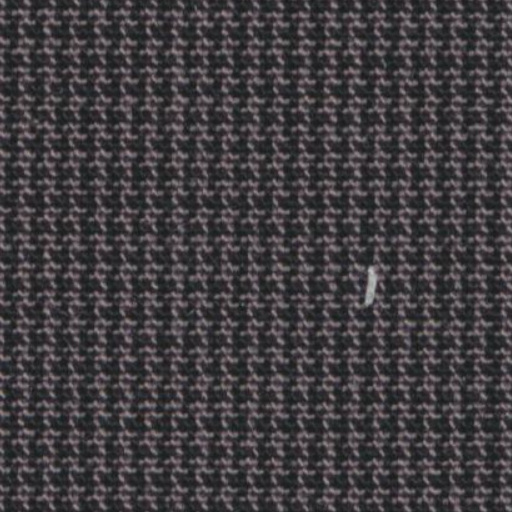DuanSha: (348, 258, 394, 318)
